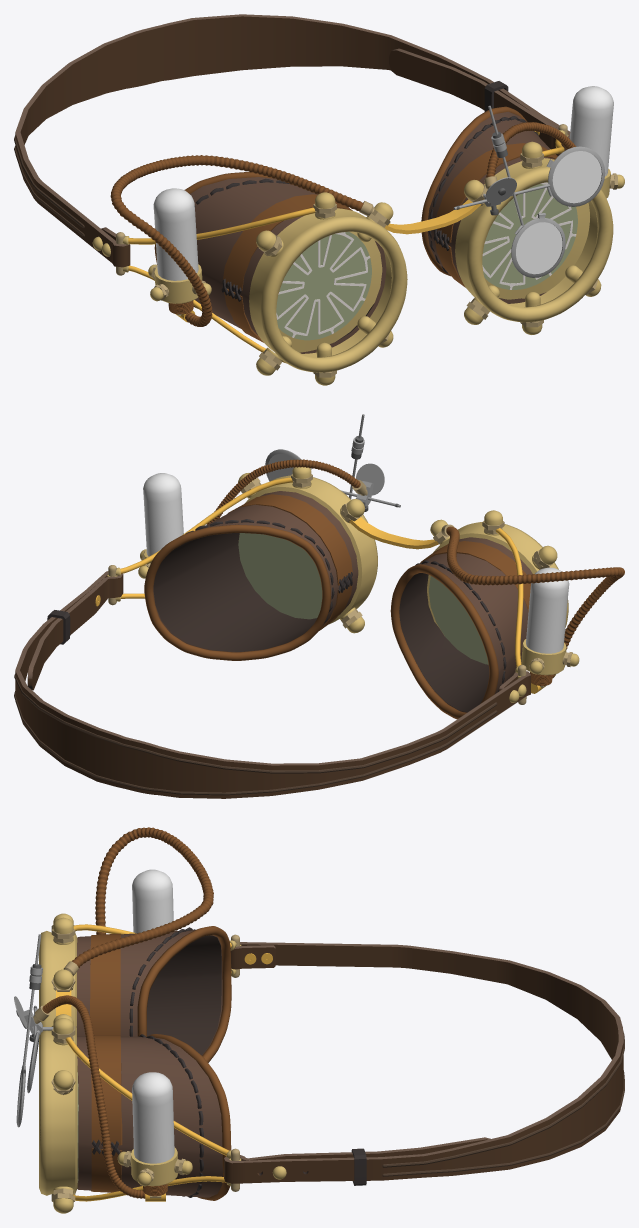
File: Goggles.fbx
3 views of the same model, one above another, from view 1: azimuth 30°, elevation 25°; view 2: azimuth 150°, elevation 25°; view 3: azimuth 270°, elevation 25° (orthographic). The views are drawn at different scales.
Visible parts, largest first — view 1: Circle.007, Circle, Cylinder, Cylinder.001, Sphere.001, Sphere.004, Cylinder.002, Circle.012, Circle.001, Circle.006, Circle.005, Cylinder.003 (+6 smaller); view 2: Cylinder, Circle.007, Cylinder.003, Cylinder.001, Sphere.001, Circle, Cylinder.002, Circle.012, Sphere.004, Circle.009, BezierCurve.002, Circle.010 (+6 smaller); view 3: Circle.007, Cylinder, Circle, Sphere.001, Cylinder.002, Cylinder.003, Circle.012, Sphere.004, Circle.011, BezierCurve.002, Cube.002, Circle.009 (+2 smaller).
Boxes of the visible parts, box(x1,y1,x2,y2) form: Circle.007: box(15, 14, 570, 267); Circle: box(249, 158, 613, 372); Cylinder: box(190, 111, 554, 353); Cylinder.001: box(276, 182, 577, 340); Sphere.001: box(153, 86, 613, 303); Sphere.004: box(256, 141, 601, 385); Cylinder.002: box(223, 143, 557, 342); Circle.012: box(110, 155, 363, 326); Circle.001: box(276, 182, 576, 337); Circle.006: box(546, 146, 605, 206); Circle.005: box(511, 213, 565, 277); Cylinder.003: box(154, 106, 527, 308); Cylinder: box(153, 491, 532, 712); Circle.007: box(15, 571, 530, 798); Cylinder.003: box(144, 524, 498, 719); Cylinder.001: box(238, 533, 488, 664); Sphere.001: box(143, 473, 569, 675); Circle: box(238, 475, 568, 635); Cylinder.002: box(227, 494, 530, 630); Circle.012: box(446, 526, 624, 678); Sphere.004: box(238, 467, 557, 677); Circle.009: box(14, 674, 497, 773); BezierCurve.002: box(120, 477, 523, 666); Circle.010: box(14, 691, 497, 795); Circle.007: box(224, 942, 623, 1183); Cylinder: box(76, 930, 223, 1197); Circle: box(39, 931, 77, 1195); Sphere.001: box(131, 869, 178, 1186); Cylinder.002: box(90, 933, 122, 1192); Cylinder.003: box(137, 926, 231, 1200); Circle.012: box(71, 827, 213, 967); Sphere.004: box(51, 913, 75, 1213); Circle.011: box(42, 995, 145, 1198); BezierCurve.002: box(65, 924, 231, 1201); Cube.002: box(129, 927, 203, 1197); Circle.009: box(382, 1031, 624, 1167).
Bounding box in the file's own units: 168 × 78.1 × 175.
